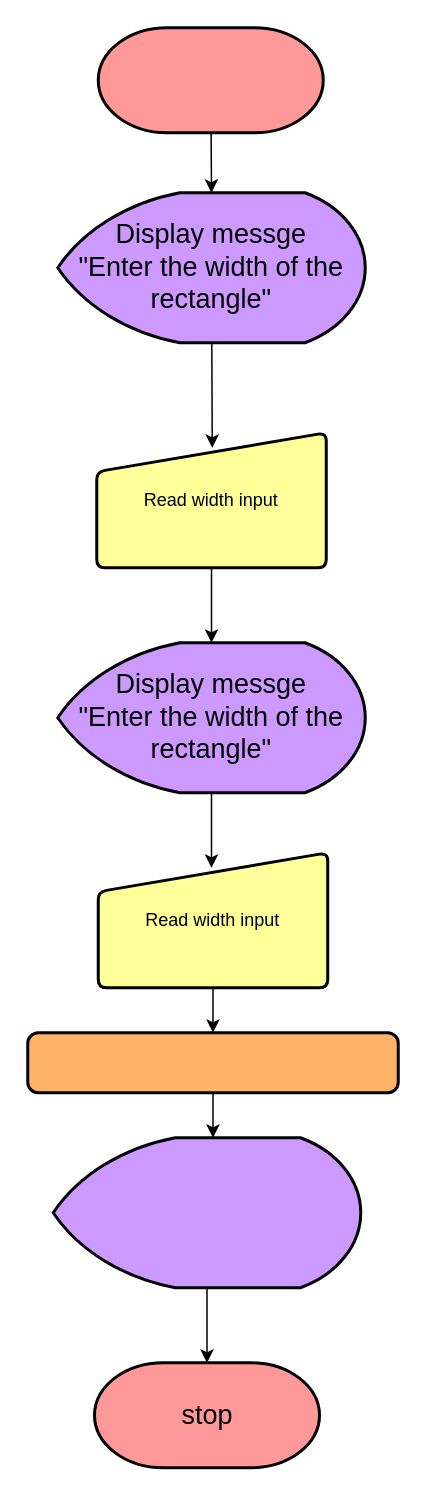
This 425x1494 diagram has some shape labels left out. The centre of each missing label's shape, as x and y in pixels:
Calculate area: area width *heigt: point 212,1062
Display messge "Enter the width of the rectangle is" , area: point 206,1212
start: point 210,80
